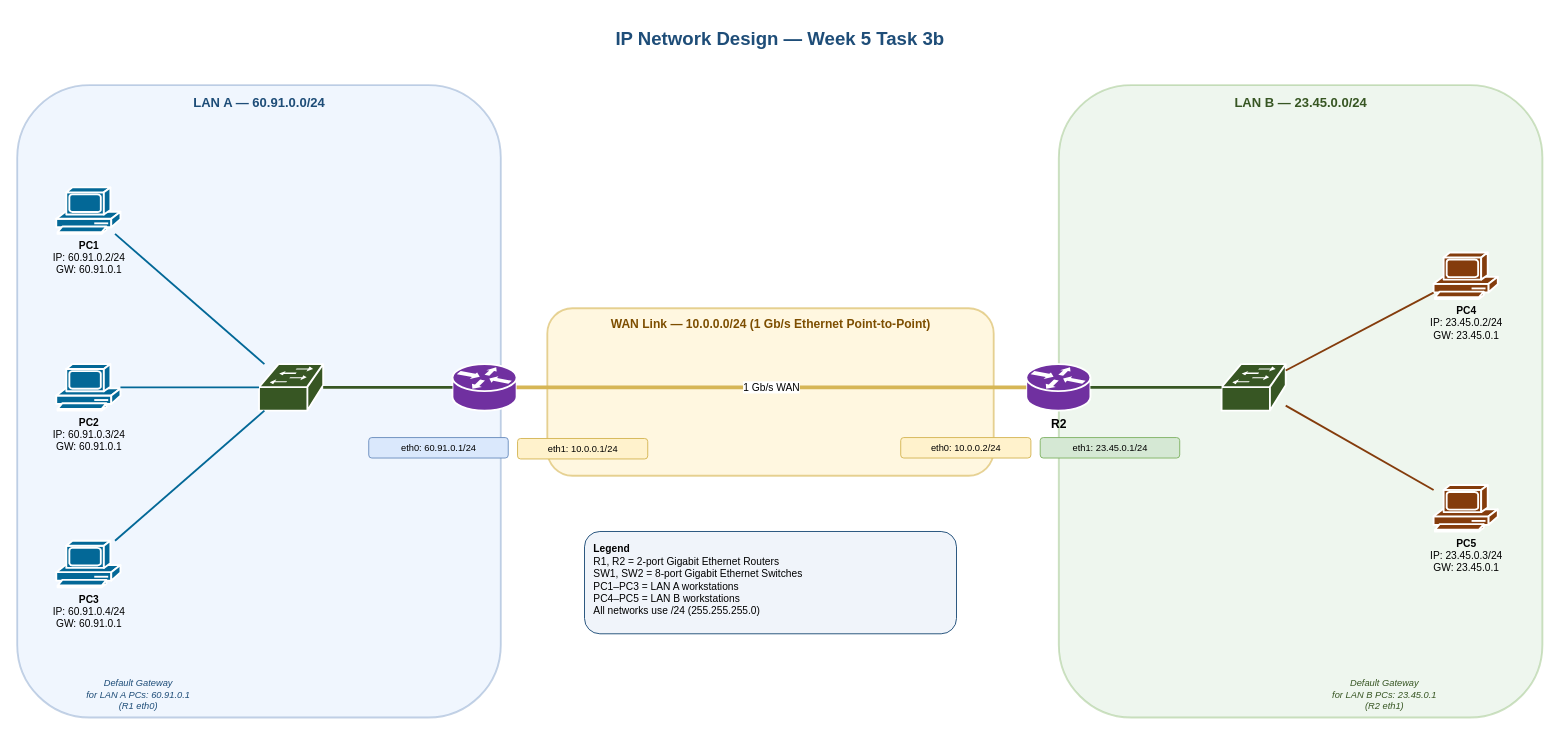
The diagram is 1559 pixels wide and 734 high, and some of its shapes have lost their labels. The centre of each missing label's shape, as x and y in pixels:
"R1" belongs at point 484,387.
"SW1 8-port GbE Switch" belongs at point 291,387.
"SW2 8-port GbE Switch" belongs at point 1253,387.
